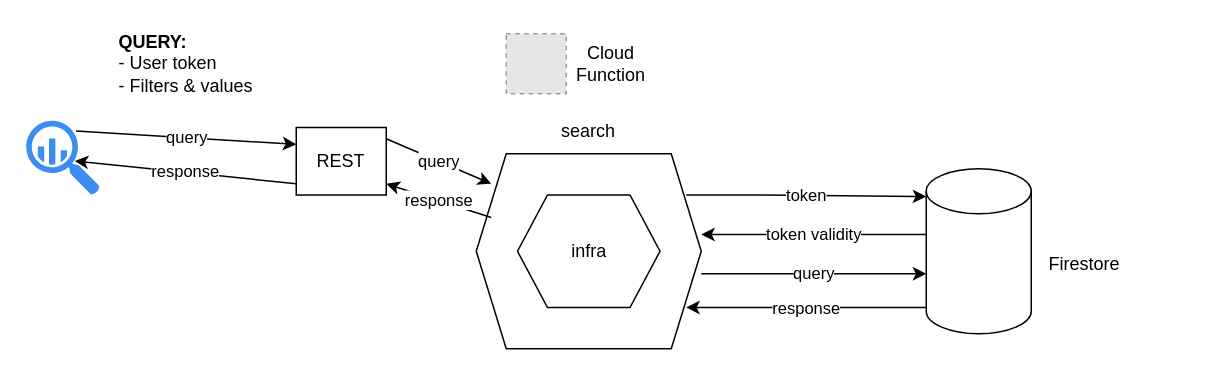
Image size: 1206x375. Some labels were removed from this diagram. Grey dashed boxes stand in for pictures. Here are the shapes that lost their labels. From the top down, the box of each, then its label:
(475, 152, 701, 349): core
(925, 167, 1031, 334): Biodiversity DB
